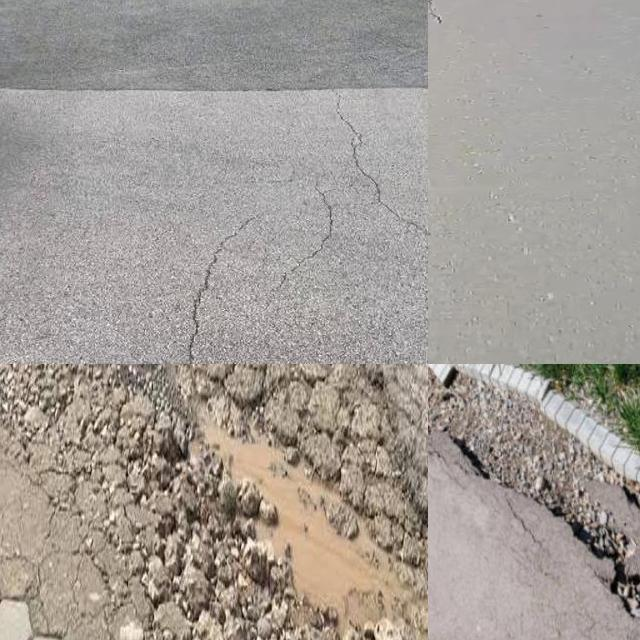Memanjang: (163, 199, 262, 364)
Pinggir: (0, 364, 428, 640), (428, 364, 640, 640)
Sambungan: (0, 0, 428, 90)
